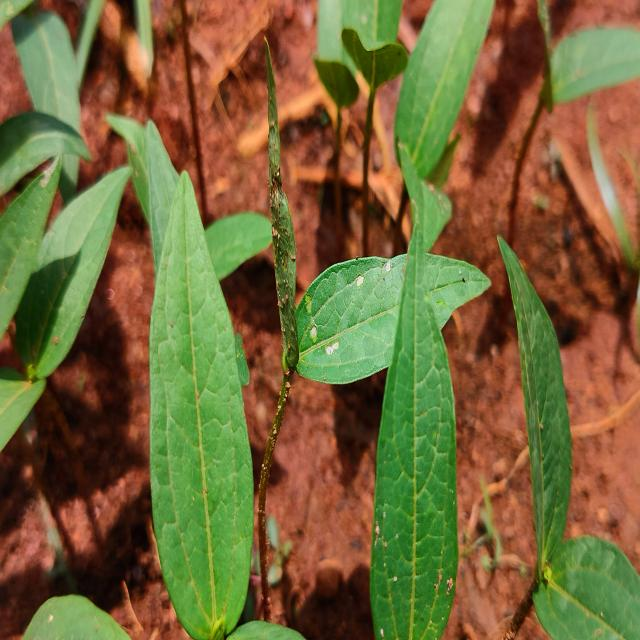Black gram_healthy: (153, 162, 255, 637), (374, 237, 457, 640), (300, 252, 492, 383), (22, 163, 132, 386), (498, 236, 572, 562), (394, 3, 495, 181)
